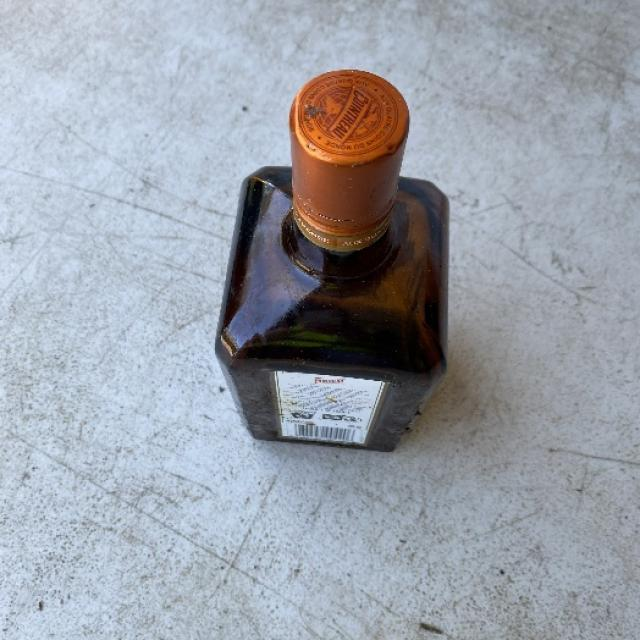inorganic: (228, 36, 442, 506)
